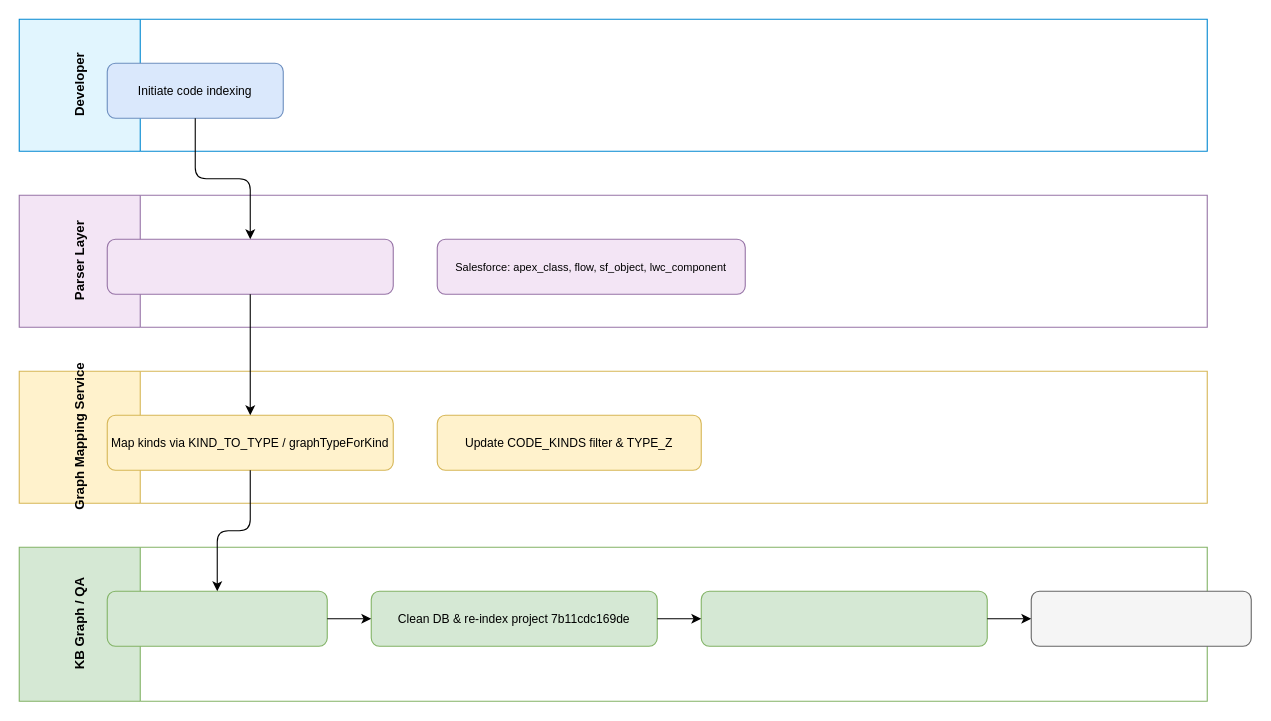
The diagram is 1271 pixels wide and 721 high, and some of its shapes have lost their labels. The box of each missing label's shape, as (x1, y1, x2, y2) in pixels:
Confirm backward compatibility: (1030, 590, 1251, 646)
Emit distinct symbol kinds per language: (106, 238, 393, 294)
Store nodes with correct types: (106, 590, 327, 646)
Verify APPX_CLASS, FLOW, SF_OBJECT, LWC_COMPONENT: (700, 590, 987, 646)
